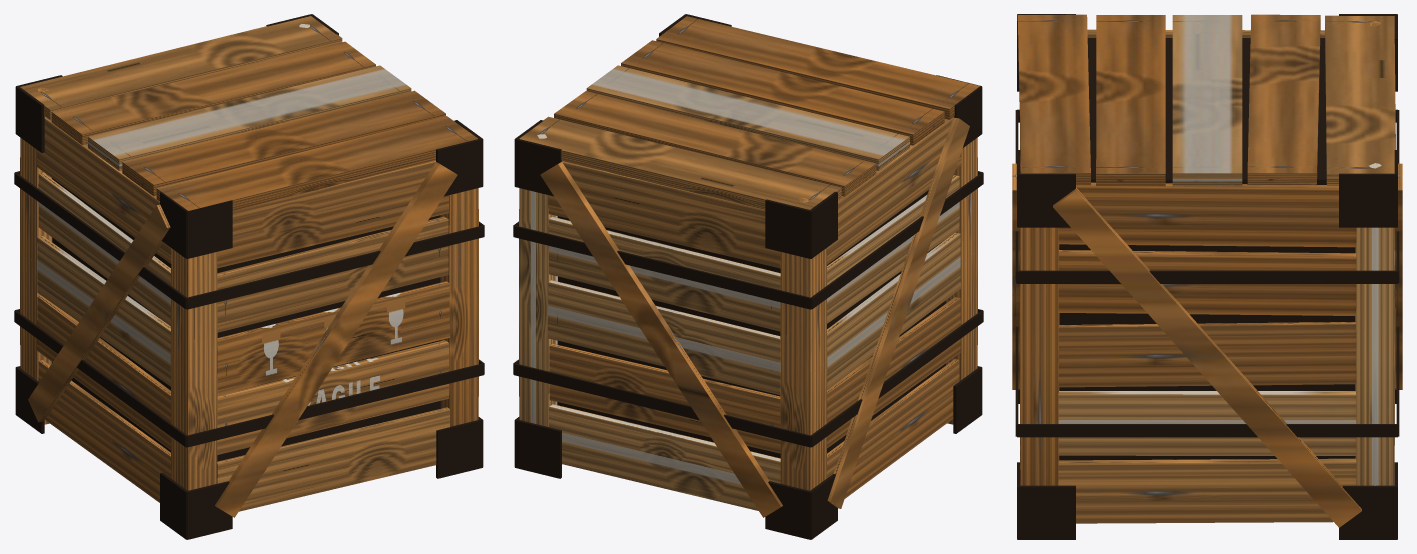
The model's file is prop_soft_crate-CVG_dgFc.glb.
3 views of the same model, side by side, from view 1: azimuth 30°, elevation 25°; view 2: azimuth 150°, elevation 25°; view 3: azimuth 270°, elevation 25° (orthographic). The views are drawn at different scales.
Parts seen in each view (by area): view 1: prop_soft_crate_body; view 2: prop_soft_crate_body; view 3: prop_soft_crate_body.
Part boxes in pixels (box(x1,y1,x2,y2)): prop_soft_crate_body: box(14, 14, 484, 539); prop_soft_crate_body: box(513, 14, 983, 539); prop_soft_crate_body: box(1012, 14, 1402, 539).
Bounding box in the file's own units: 0.872 × 0.901 × 0.872.
Materials: 1 (1 with a texture image).
